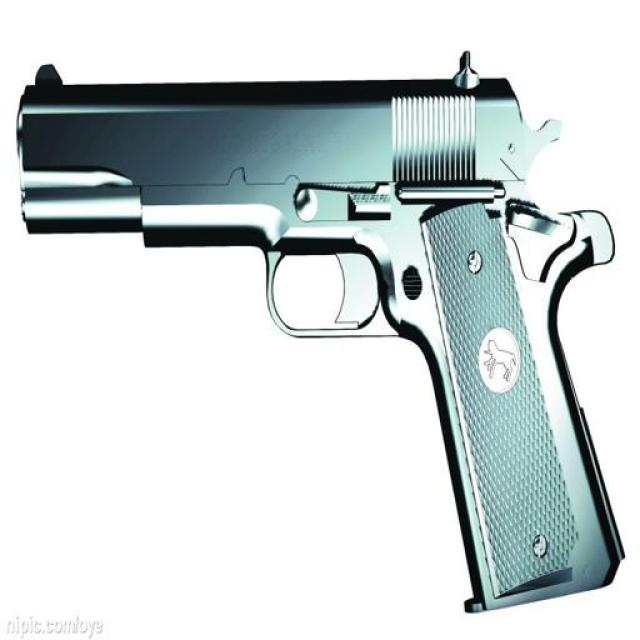pistol: (16, 48, 625, 614)
